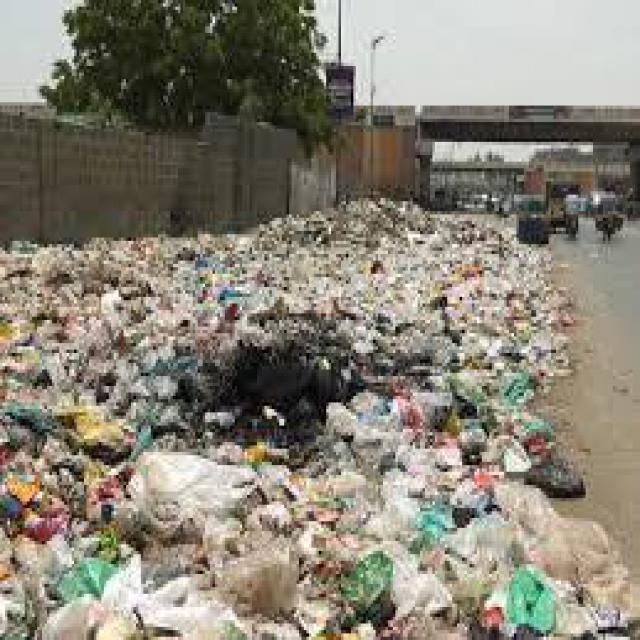garbage: (0, 231, 541, 637), (336, 195, 435, 231)
